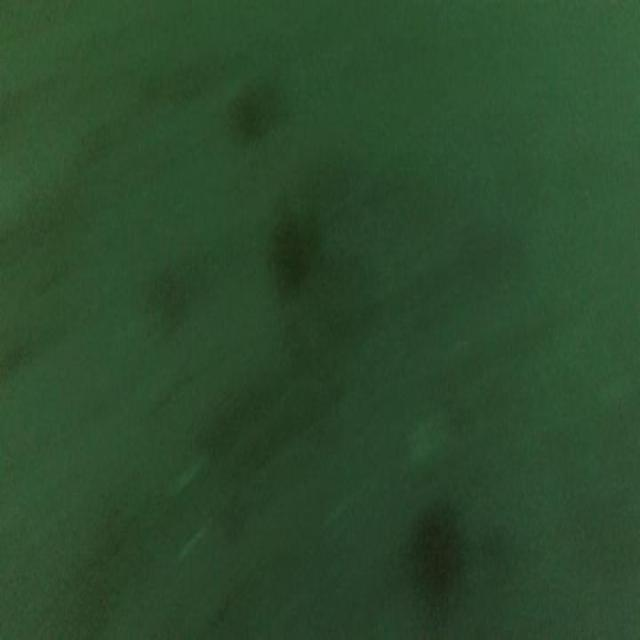echinus: (416, 487, 468, 607), (268, 208, 310, 304), (225, 74, 269, 161)
